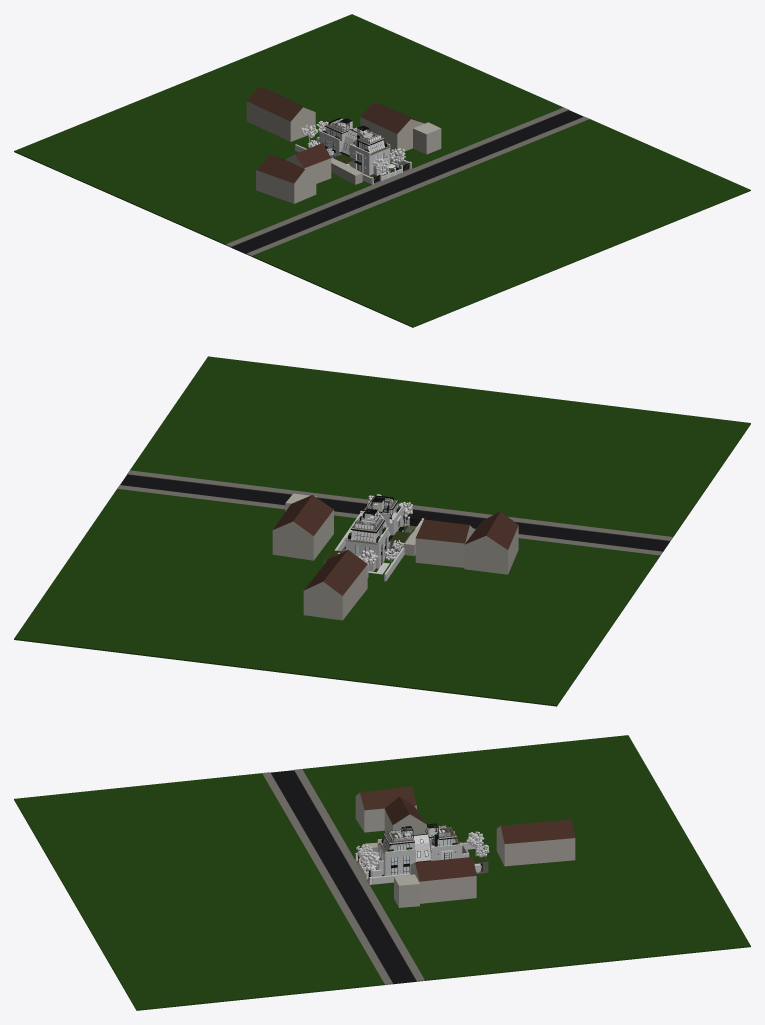
Rendered from Gerlichstr8_Doppelhaus.obj.
3 views of the same model, one above another, from view 1: azimuth 30°, elevation 25°; view 2: azimuth 150°, elevation 25°; view 3: azimuth 270°, elevation 25° (orthographic). The views are drawn at different scales.
Parts seen in each view (by area): view 1: Gelaende_Rasen, Strasse_Gerlichstrasse, Nachbar_Nord_Nr9_9b, Nachbar_West_gross, Nachbar_Ost_Nr6_6a, Nachbar_West_Nr10, Nachbar_Ost_Nr6_Anbau, Aussen_Baeume; view 2: Gelaende_Rasen, Strasse_Gerlichstrasse, Nachbar_Nord_Nr9_9b, Nachbar_Ost_Nr6_6a, Nachbar_West_gross, Nachbar_West_Nr10, Aussen_Baeume; view 3: Gelaende_Rasen, Strasse_Gerlichstrasse, Nachbar_Nord_Nr9_9b, Nachbar_Ost_Nr6_6a, Nachbar_West_gross, Nachbar_West_Nr10, Nachbar_Ost_Nr6_Anbau, Aussen_Baeume.
Part boxes in pixels (<box>): Gelaende_Rasen: <box>14,14,750,327</box>; Strasse_Gerlichstrasse: <box>225,107,589,256</box>; Nachbar_Nord_Nr9_9b: <box>246,86,315,141</box>; Nachbar_West_gross: <box>256,155,316,203</box>; Nachbar_Ost_Nr6_6a: <box>360,102,424,151</box>; Nachbar_West_Nr10: <box>285,143,331,183</box>; Nachbar_Ost_Nr6_Anbau: <box>413,122,441,154</box>; Aussen_Baeume: <box>301,120,405,173</box>; Gelaende_Rasen: <box>14,356,750,706</box>; Strasse_Gerlichstrasse: <box>117,470,672,555</box>; Nachbar_Nord_Nr9_9b: <box>303,549,367,620</box>; Nachbar_Ost_Nr6_6a: <box>272,495,333,560</box>; Nachbar_West_gross: <box>464,511,518,574</box>; Nachbar_West_Nr10: <box>415,519,474,567</box>; Aussen_Baeume: <box>337,494,412,577</box>; Gelaende_Rasen: <box>14,735,750,1010</box>; Strasse_Gerlichstrasse: <box>262,769,424,984</box>; Nachbar_Nord_Nr9_9b: <box>496,819,575,866</box>; Nachbar_Ost_Nr6_6a: <box>410,857,476,903</box>; Nachbar_West_gross: <box>355,786,416,832</box>; Nachbar_West_Nr10: <box>384,796,426,835</box>; Nachbar_Ost_Nr6_Anbau: <box>394,874,419,907</box>; Aussen_Baeume: <box>356,831,489,876</box>.
Bounding box in the file's own units: 164 × 14.24 × 186.
